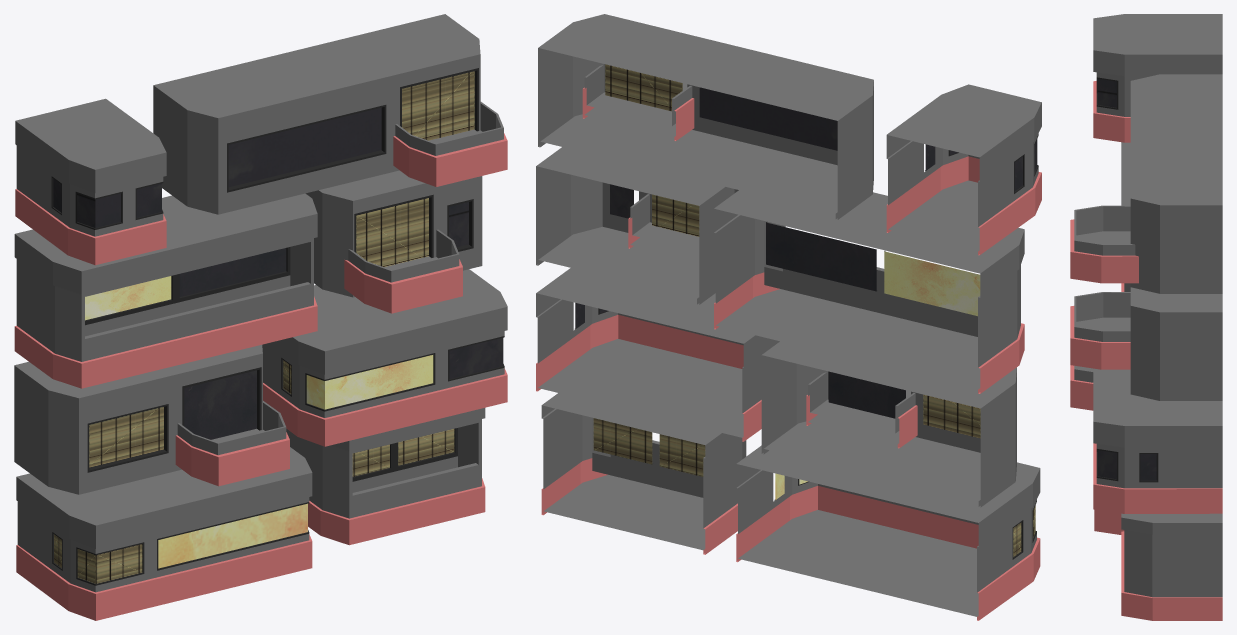
File: Bloc_Mini_01.fbx
3 views of the same model, side by side, from view 1: azimuth 30°, elevation 25°; view 2: azimuth 150°, elevation 25°; view 3: azimuth 270°, elevation 25° (orthographic). The views are drawn at different scales.
Parts seen in each view (by area): view 1: Bloc_Mini_01; view 2: Bloc_Mini_01; view 3: Bloc_Mini_01.
Part boxes in pixels (box(x1,y1,x2,y2)): Bloc_Mini_01: box(14, 14, 507, 620); Bloc_Mini_01: box(536, 14, 1041, 620); Bloc_Mini_01: box(1070, 14, 1222, 620).
Size of the model in its own units: 331 by 1000 by 1000.
